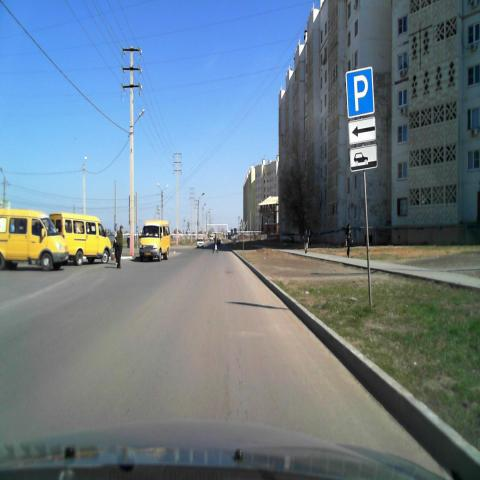8_3_2: (348, 119, 375, 145)
8_6_4: (350, 149, 376, 171)
